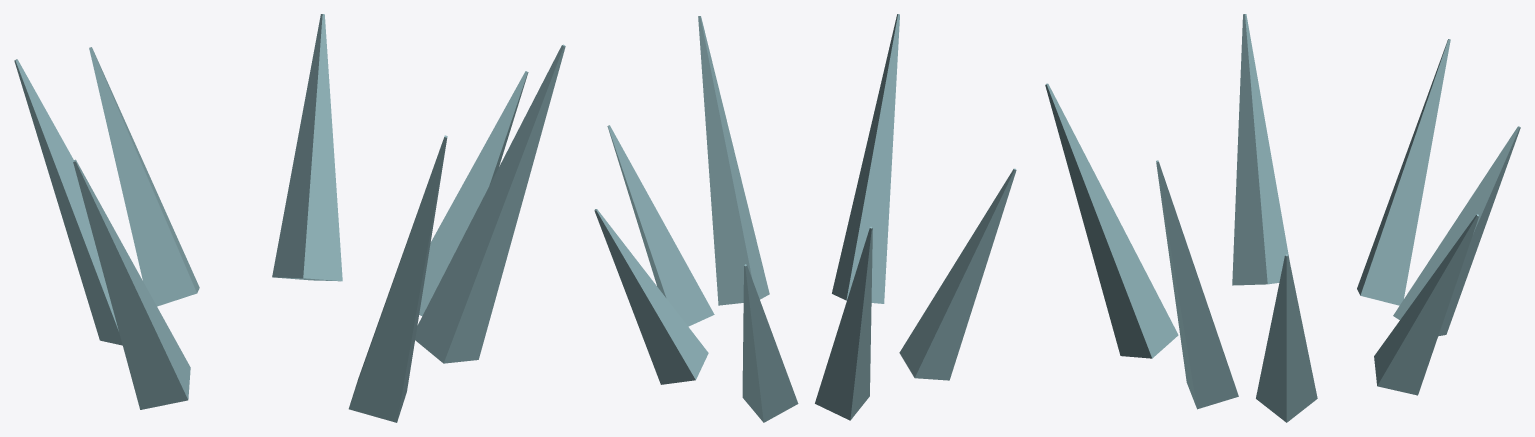
The model's file is enfeite_capim.glb.
3 views of the same model, side by side, from view 1: azimuth 30°, elevation 25°; view 2: azimuth 150°, elevation 25°; view 3: azimuth 270°, elevation 25° (orthographic). The views are drawn at different scales.
Parts seen in each view (by area): view 1: neve_enfeite_capim; view 2: neve_enfeite_capim; view 3: neve_enfeite_capim.
Boxes of the visible parts, left/top/right/bottom form: neve_enfeite_capim: left=14, top=14, right=565, bottom=422; neve_enfeite_capim: left=594, top=14, right=1016, bottom=422; neve_enfeite_capim: left=1045, top=14, right=1520, bottom=422.
Size of the model in its own units: 0.2797 by 0.1784 by 0.2765.
